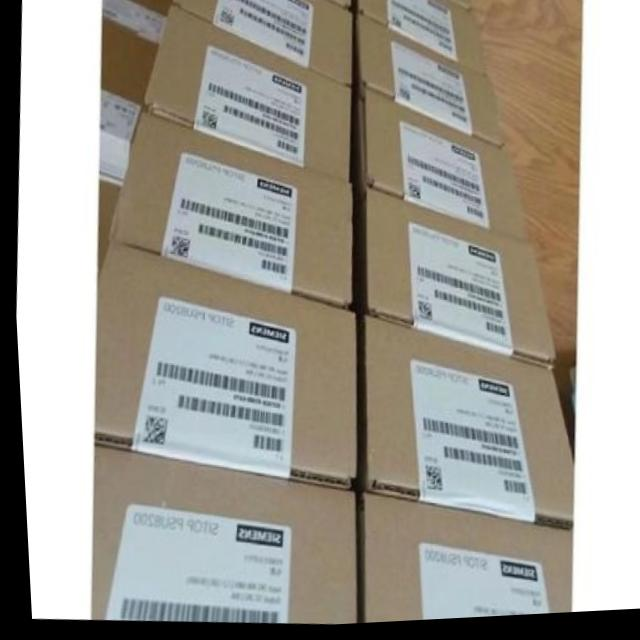box: (91, 243, 351, 496), (103, 108, 350, 309), (86, 437, 348, 623), (353, 315, 568, 532), (140, 7, 349, 187), (352, 190, 552, 369), (350, 494, 565, 626), (350, 89, 528, 247), (95, 0, 171, 282), (354, 14, 506, 153), (172, 0, 351, 90), (355, 0, 483, 78), (323, 0, 352, 16), (439, 0, 470, 11)
